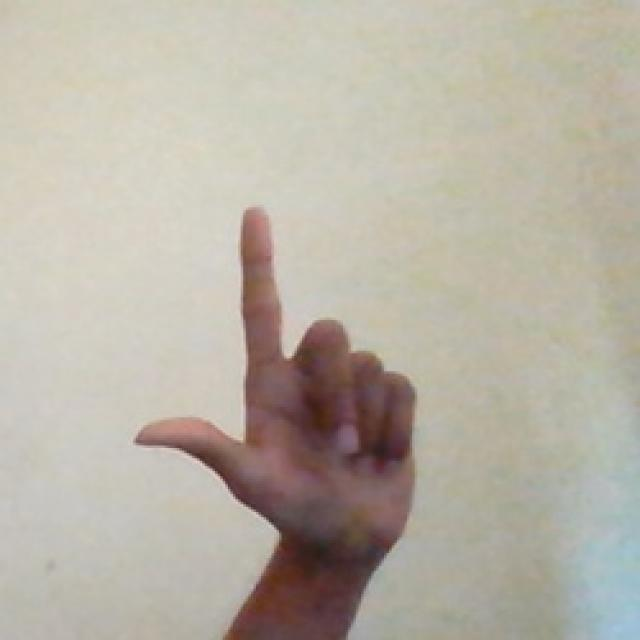Alphabet-L: (111, 172, 430, 624)
